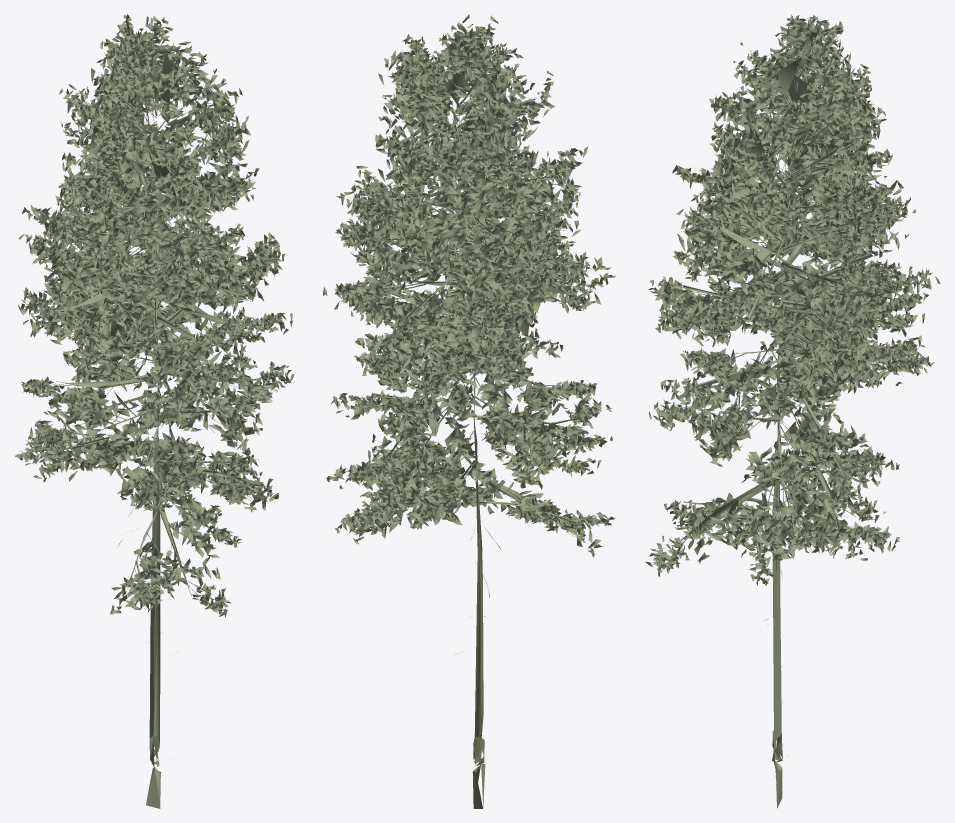
The model's file is conifer-lod1.glb.
The picture shows the model from 3 angles, left to right: view 1: azimuth 30°, elevation 25°; view 2: azimuth 150°, elevation 25°; view 3: azimuth 270°, elevation 25°; orthographic projection. The views are drawn at different scales.
Visible parts, largest first — view 1: Preserved fir needles, fir_tree_01_a_LOD0; view 2: Preserved fir needles, fir_tree_01_a_LOD0; view 3: Preserved fir needles, fir_tree_01_a_LOD0.
Boxes of the visible parts, x1,y1,x2,y2 form: Preserved fir needles: [15, 14, 294, 617]; fir_tree_01_a_LOD0: [25, 38, 277, 808]; Preserved fir needles: [323, 14, 615, 557]; fir_tree_01_a_LOD0: [334, 38, 599, 808]; Preserved fir needles: [645, 15, 940, 585]; fir_tree_01_a_LOD0: [654, 38, 923, 808].
Bounding box in the file's own units: 6.47 × 18.69 × 6.37.
